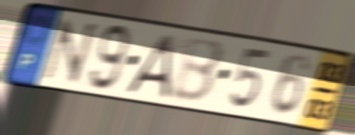5: (228, 45, 273, 111)
6: (268, 52, 312, 119)
9: (87, 22, 132, 93)
A: (122, 32, 176, 100)
B: (168, 37, 226, 106)
N: (40, 16, 102, 87)
